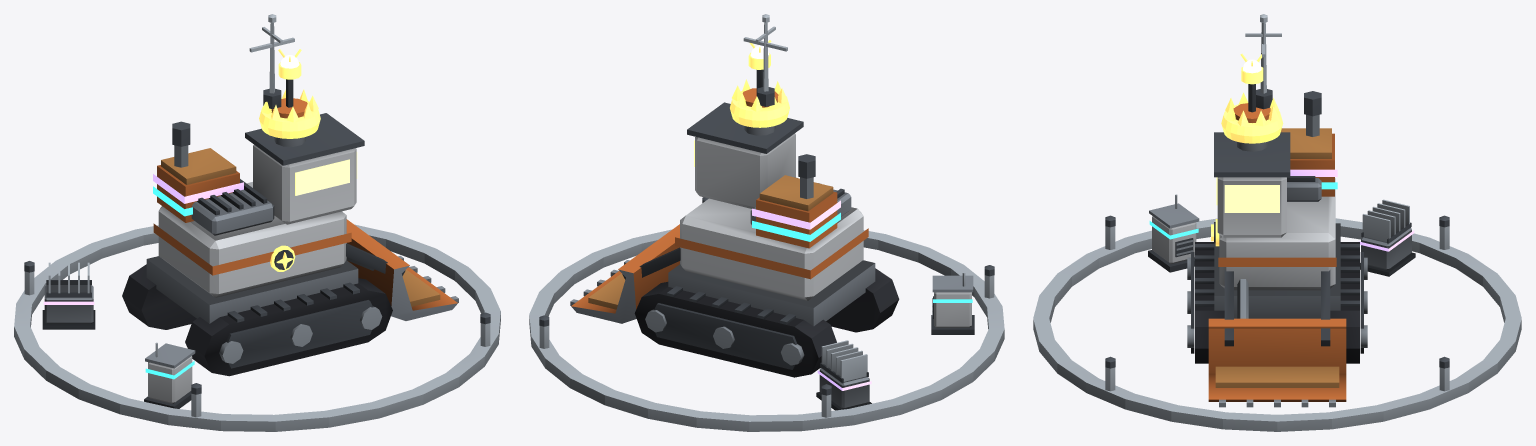
Rendered from regolith_harvester_s.glb.
The picture shows the model from 3 angles, left to right: view 1: azimuth 30°, elevation 25°; view 2: azimuth 150°, elevation 25°; view 3: azimuth 270°, elevation 25°; orthographic projection. The views are drawn at different scales.
Visible parts, largest first — view 1: Base, L2, L4, L5, L3; view 2: Base, L2, L4, L3, L5; view 3: Base, L2, L4, L3, L5.
Boxes of the visible parts, box(x1,y1,x2,y2) form: Base: box(122, 98, 458, 376); L2: box(14, 14, 500, 431); L4: box(42, 174, 243, 329); L5: box(259, 49, 320, 271); L3: box(144, 186, 195, 408); Base: box(570, 88, 899, 377); L2: box(529, 14, 1004, 431); L4: box(752, 200, 871, 410); L3: box(752, 212, 974, 334); L5: box(730, 40, 789, 127); Base: box(1187, 91, 1367, 407); L2: box(1033, 14, 1521, 431); L4: box(1290, 169, 1415, 276); L3: box(1148, 182, 1337, 272); L5: box(1211, 53, 1283, 246).
Size of the model in its own units: 4.26 by 3.07 by 4.26.
